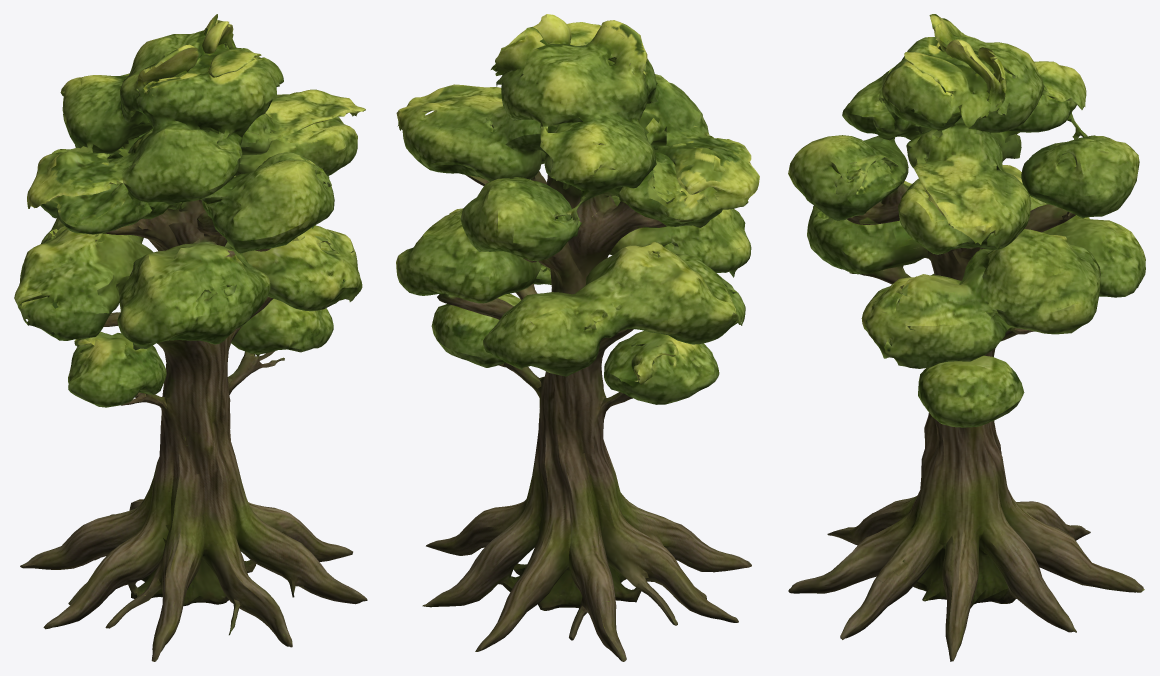
File: meadows_grove_oak_b.glb
The picture shows the model from 3 angles, left to right: view 1: azimuth 30°, elevation 25°; view 2: azimuth 150°, elevation 25°; view 3: azimuth 270°, elevation 25°; orthographic projection.
Parts seen in each view (by area): view 1: Mesh_0; view 2: Mesh_0; view 3: Mesh_0.
Boxes of the visible parts, box(x1,y1,x2,y2) form: Mesh_0: box(14, 14, 367, 661); Mesh_0: box(396, 14, 759, 661); Mesh_0: box(788, 14, 1145, 661).
Bounding box in the file's own units: 1.2 × 1.9 × 1.1.
Materials: 1 (1 with a texture image).
